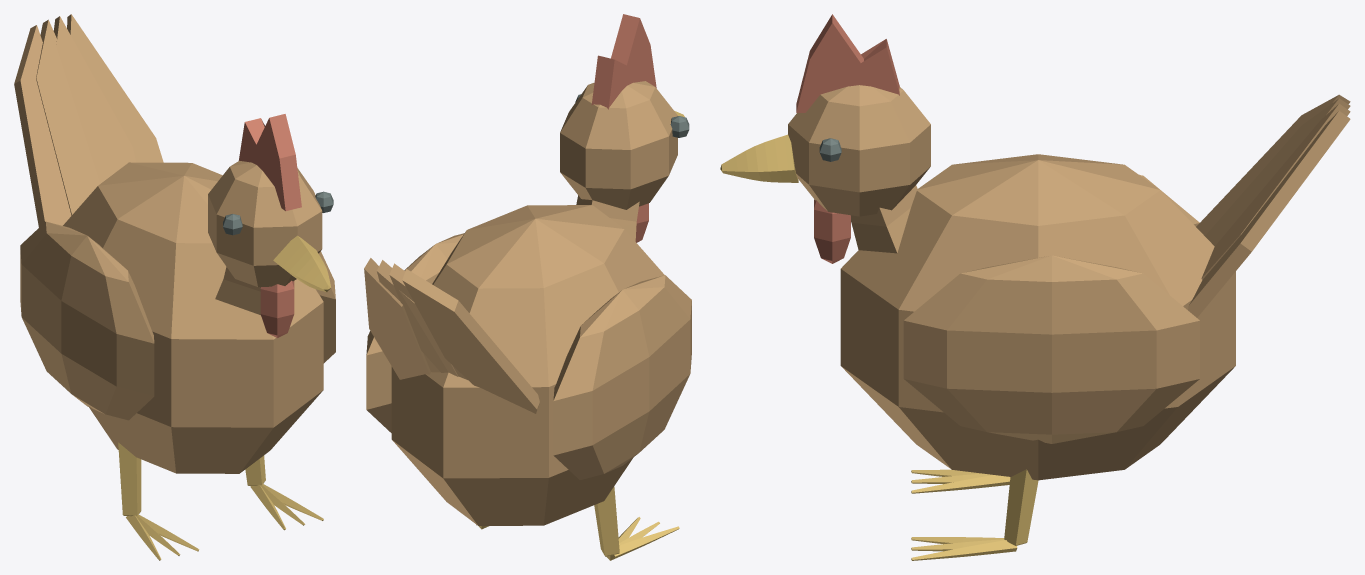
The model's file is farm-livestock-and-barnyard-rooster-cf4cbece__5027.glb.
The picture shows the model from 3 angles, left to right: view 1: azimuth 30°, elevation 25°; view 2: azimuth 150°, elevation 25°; view 3: azimuth 270°, elevation 25°; orthographic projection. The views are drawn at different scales.
Visible parts, largest first — view 1: rooster; view 2: rooster; view 3: rooster.
Part boxes in pixels (box(x1,y1,x2,y2)): rooster: box(14, 14, 335, 560); rooster: box(364, 14, 691, 560); rooster: box(720, 14, 1350, 560).
Size of the model in its own units: 0.3291 by 0.6103 by 0.6978.
